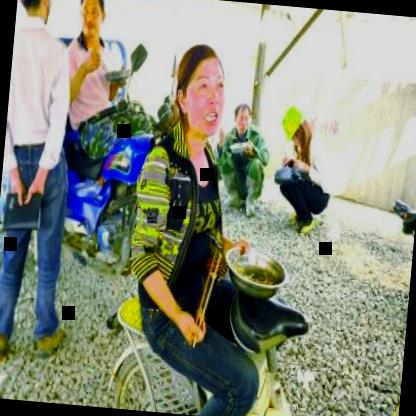head: (167, 38, 234, 142), (74, 0, 109, 46), (231, 97, 256, 139)
helmet: (279, 96, 311, 153), (15, 0, 62, 28)
